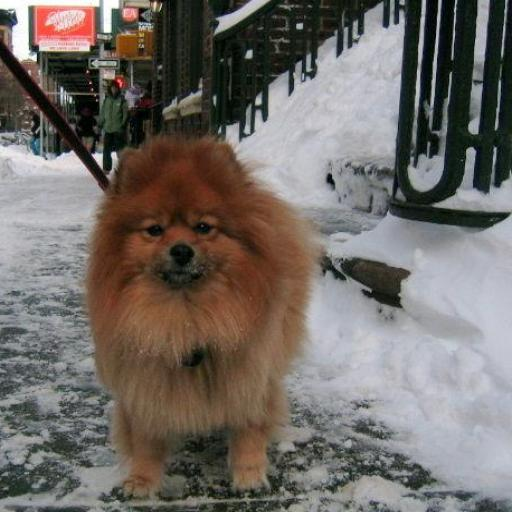dog_face: (122, 153, 261, 288)
